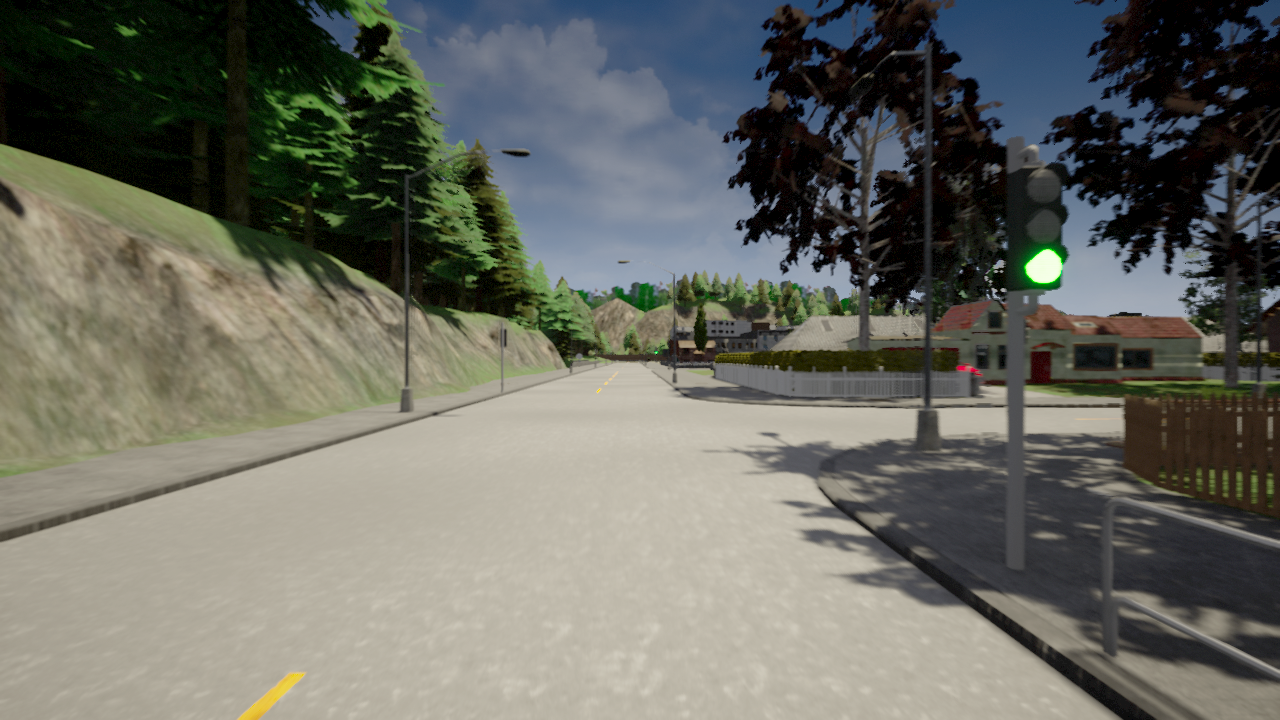green: (1006, 158, 1072, 293)
